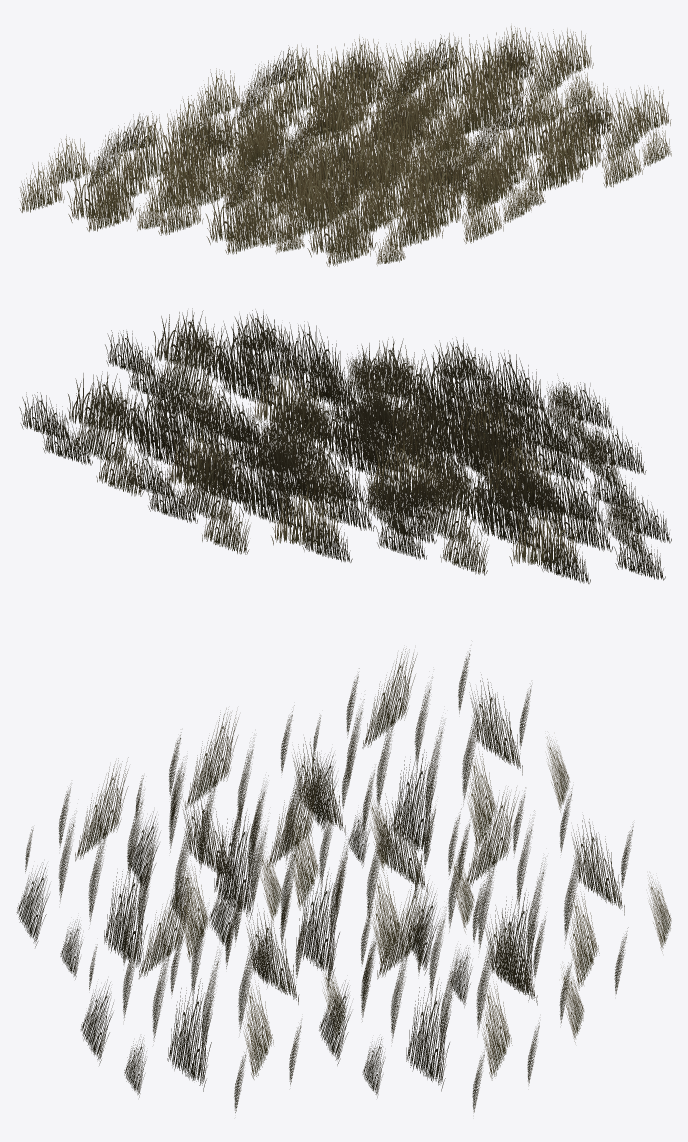
The model's file is SM_Grass_LargeClump.FBX.
3 renders of one model, top to bottom at view 1: azimuth 30°, elevation 25°; view 2: azimuth 150°, elevation 25°; view 3: azimuth 270°, elevation 25°, orthographic. The views are drawn at different scales.
Visible parts, largest first — view 1: SM_Grass_LargeClump; view 2: SM_Grass_LargeClump; view 3: SM_Grass_LargeClump.
Part boxes in pixels (x1,y1,x2,y2): SM_Grass_LargeClump: (19, 25, 671, 266); SM_Grass_LargeClump: (19, 308, 671, 583); SM_Grass_LargeClump: (16, 648, 671, 1112).
Size of what is drawn, in the model's own units: 655 by 419 by 83.64.
